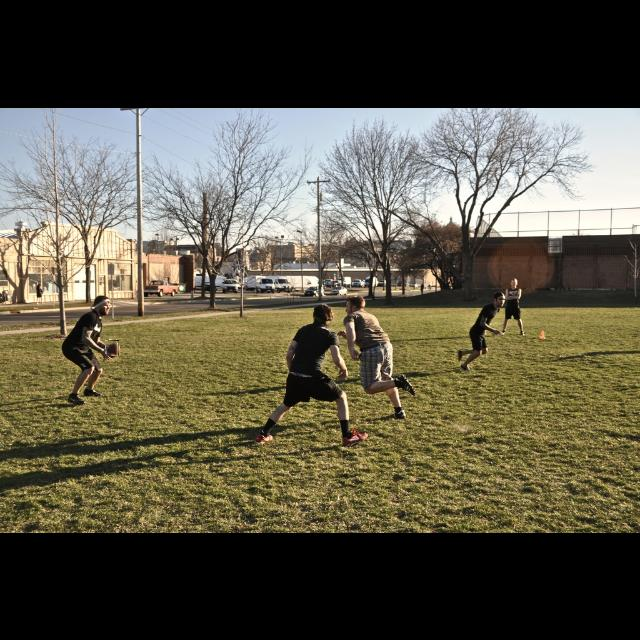Football: (105, 340, 119, 356)
